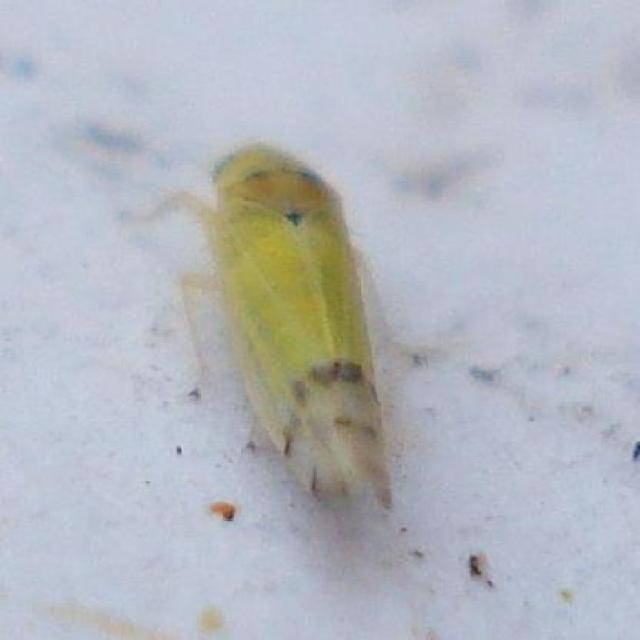green-leafhopper: (201, 146, 385, 500)
